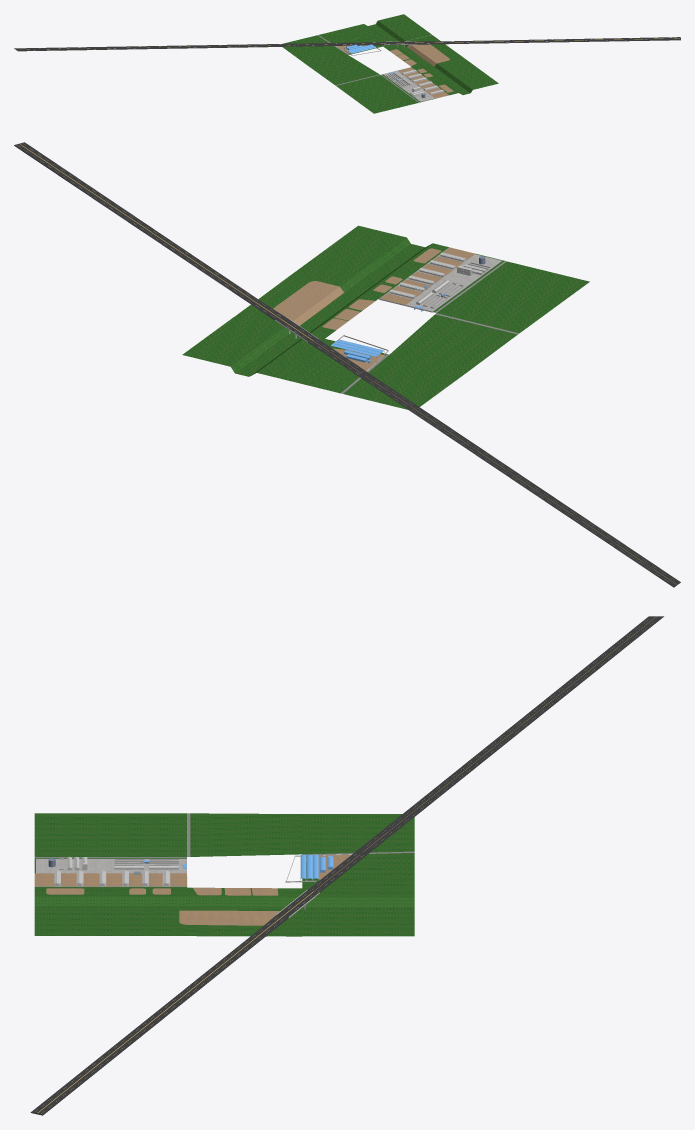
The model's file is waiweigai.fbx.
The picture shows the model from 3 angles, top to bottom: view 1: azimuth 30°, elevation 25°; view 2: azimuth 150°, elevation 25°; view 3: azimuth 270°, elevation 25°; orthographic projection. The views are drawn at different scales.
Visible parts, largest first — view 1: polySurface598, pCube366, polySurface592, polySurface577, polySurface554, pCube373, polySurface609, polySurface574; view 2: polySurface598, pCube366, polySurface592, polySurface554, polySurface577; view 3: polySurface598, pCube366, polySurface592, polySurface554, polySurface577.
Part boxes in pixels (x1,y1,x2,y2): polySurface598: [282, 14, 498, 113]; pCube366: [14, 37, 680, 51]; polySurface592: [336, 44, 453, 98]; polySurface577: [344, 46, 448, 101]; polySurface554: [383, 71, 444, 101]; pCube373: [27, 38, 679, 49]; polySurface609: [344, 44, 397, 80]; polySurface574: [317, 35, 419, 102]; polySurface598: [182, 225, 589, 409]; pCube366: [14, 142, 680, 587]; polySurface592: [273, 247, 475, 370]; polySurface554: [387, 254, 501, 311]; polySurface577: [331, 247, 502, 360]; polySurface598: [34, 813, 414, 936]; pCube366: [30, 616, 663, 1115]; polySurface592: [34, 854, 351, 925]; polySurface554: [36, 859, 186, 886]; polySurface577: [36, 855, 323, 887].
Bounding box in the file's own units: 234052 × 3469 × 125546.
